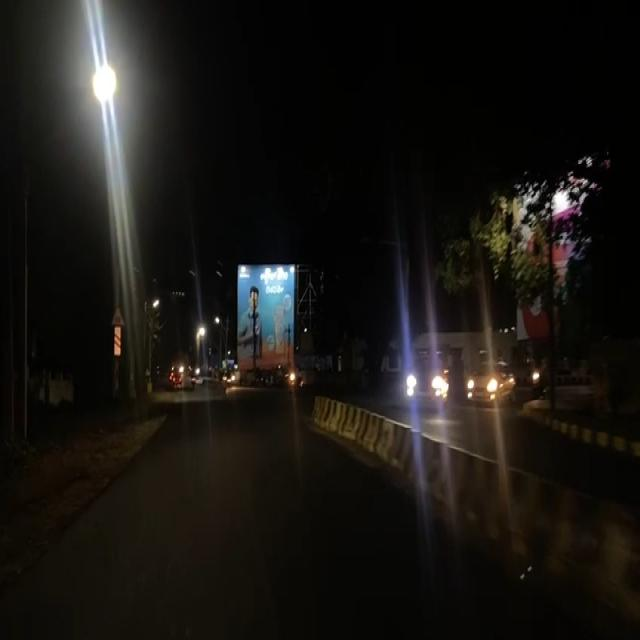bien_cam: (110, 301, 126, 330)
